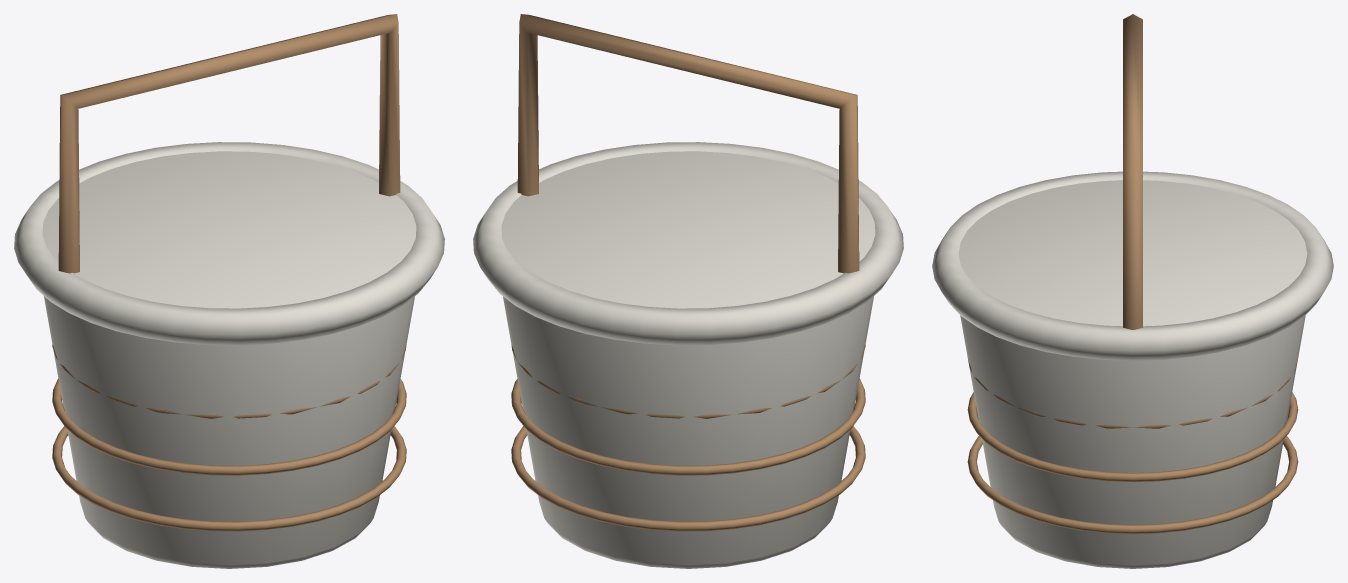
The model's file is atelier-laundry-basket.glb.
3 renders of one model, left to right at view 1: azimuth 30°, elevation 25°; view 2: azimuth 150°, elevation 25°; view 3: azimuth 270°, elevation 25°, orthographic. The views are drawn at different scales.
Parts seen in each view (by area): view 1: ceramic.109, legs.170; view 2: ceramic.109, legs.170; view 3: ceramic.109, legs.170.
Boxes of the visible parts, box(x1,y1,x2,y2) form: ceramic.109: box(14, 142, 444, 568); legs.170: box(52, 14, 406, 531); ceramic.109: box(473, 142, 903, 568); legs.170: box(511, 14, 865, 531); ceramic.109: box(932, 171, 1333, 568); legs.170: box(967, 14, 1298, 534).
Size of the model in its own units: 0.35 by 0.4071 by 0.35.
